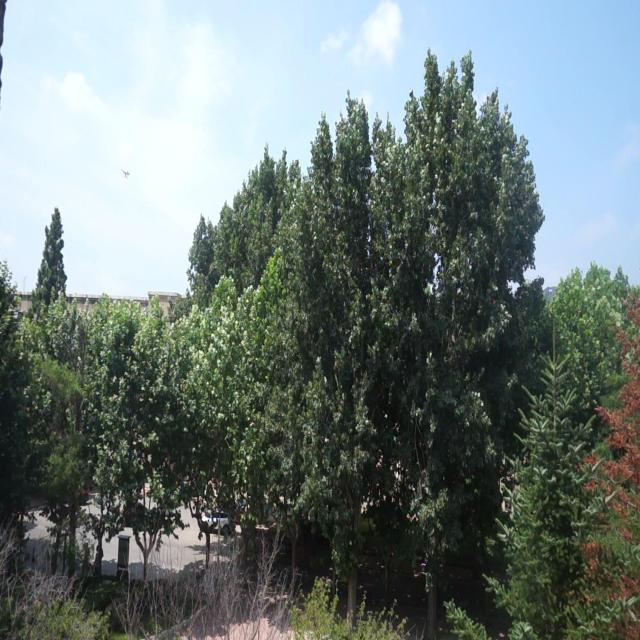drone: (119, 162, 133, 183)
